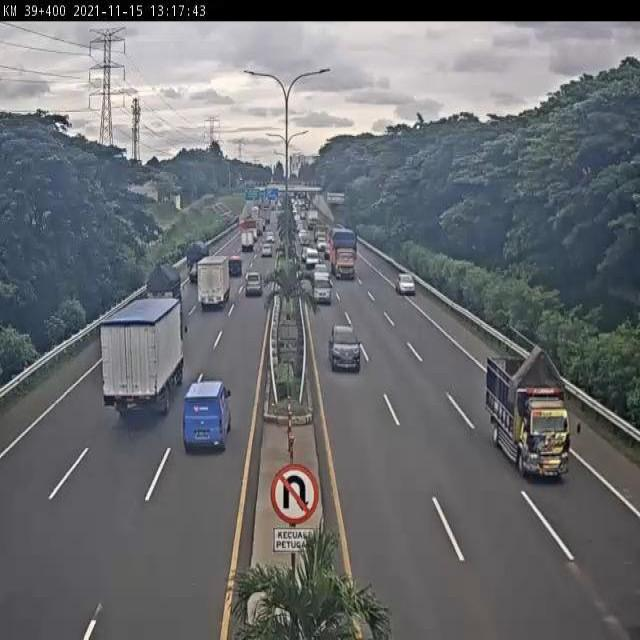car: (328, 320, 363, 375), (309, 269, 334, 308), (396, 269, 417, 299), (243, 269, 263, 300)
small truck: (182, 378, 232, 454)
truck-m-: (485, 351, 573, 484), (102, 296, 185, 419), (196, 253, 232, 312), (329, 229, 363, 280), (144, 262, 182, 302)
